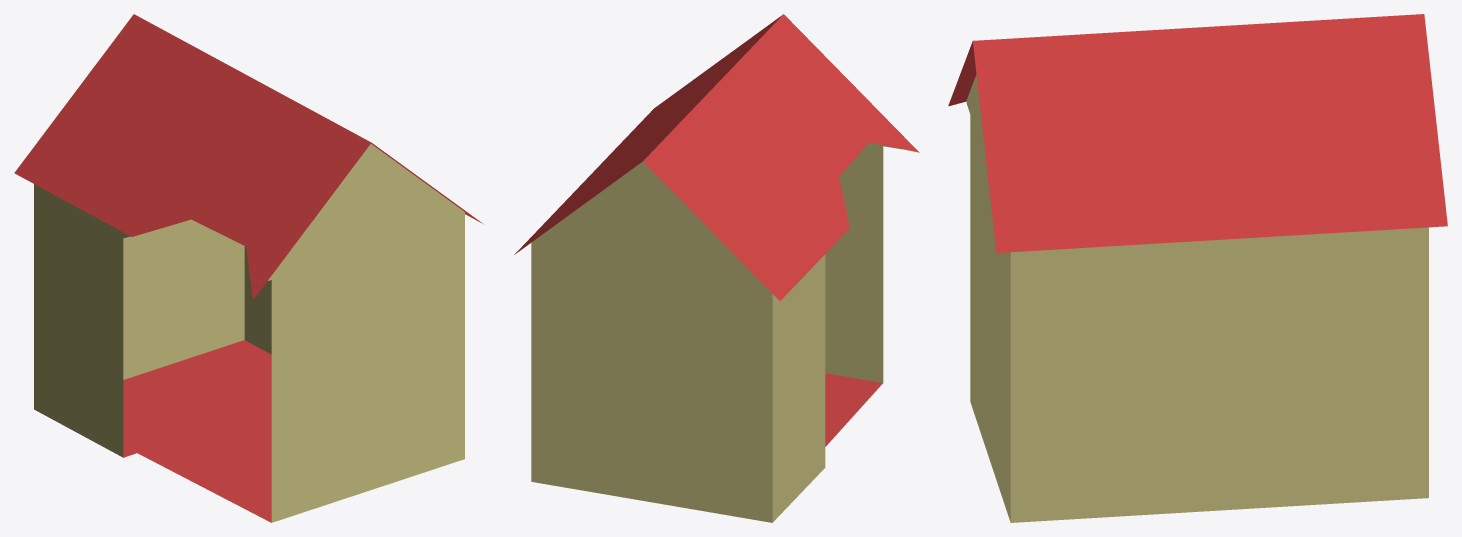
The picture shows the model from 3 angles, left to right: view 1: azimuth 30°, elevation 25°; view 2: azimuth 150°, elevation 25°; view 3: azimuth 270°, elevation 25°; orthographic projection. The views are drawn at different scales.
Bounding box in the file's own units: 12.19 × 14.9 × 13.78.
